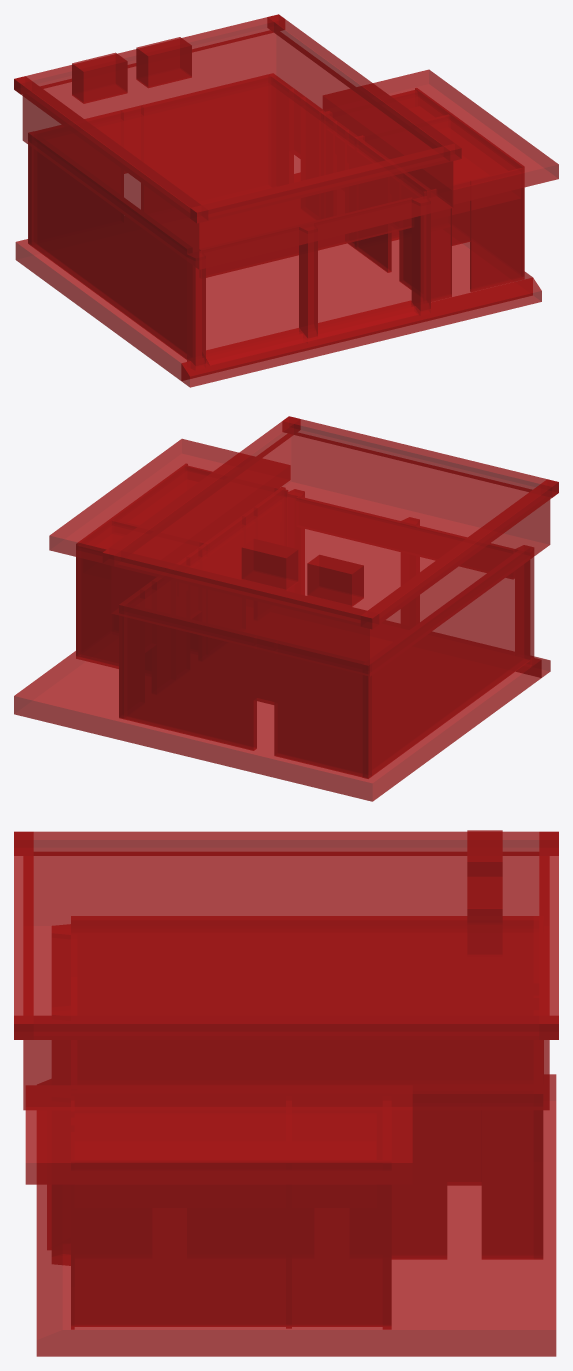
Rendered from SM_Bld_RepairShop_Medium_01_Collision.fbx.
3 views of the same model, one above another, from view 1: azimuth 30°, elevation 25°; view 2: azimuth 150°, elevation 25°; view 3: azimuth 270°, elevation 25° (orthographic). The views are drawn at different scales.
Parts seen in each view (by area): view 1: SM_Bld_RepairShop_Medium_01_Collision; view 2: SM_Bld_RepairShop_Medium_01_Collision; view 3: SM_Bld_RepairShop_Medium_01_Collision.
Boxes of the visible parts, x1,y1,x2,y2 form: SM_Bld_RepairShop_Medium_01_Collision: [14, 14, 558, 387]; SM_Bld_RepairShop_Medium_01_Collision: [14, 416, 558, 801]; SM_Bld_RepairShop_Medium_01_Collision: [14, 830, 558, 1356].
Bounding box in the file's own units: 1846 × 967 × 1599.
